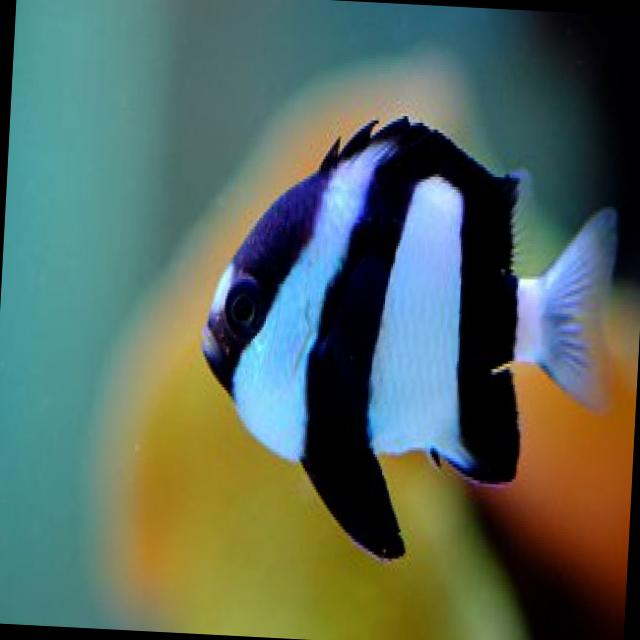ThreeStripedDamselfish: (188, 104, 624, 573)
